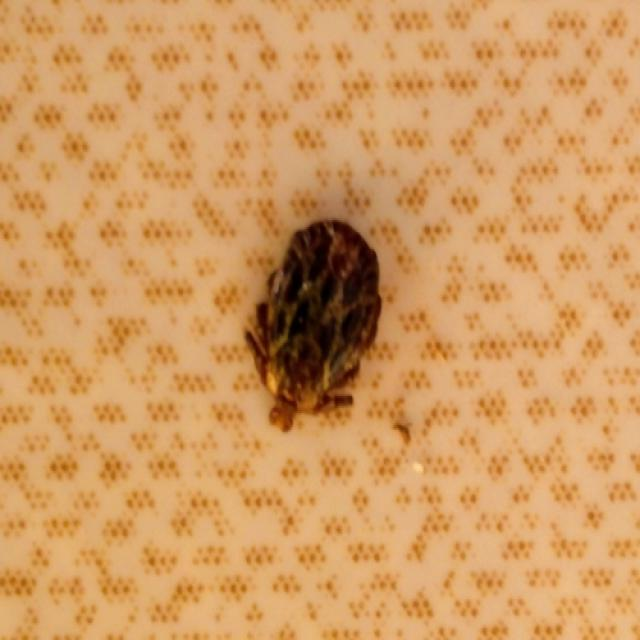Dermacentor Reticulatus-M: (246, 222, 383, 432)
